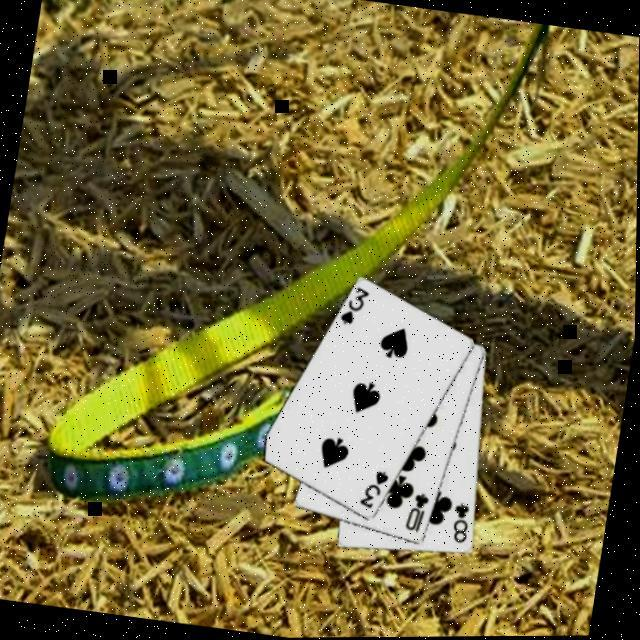10C: (403, 488, 434, 536)
3S: (356, 466, 393, 514), (336, 282, 373, 330)
8C: (448, 499, 476, 547)
